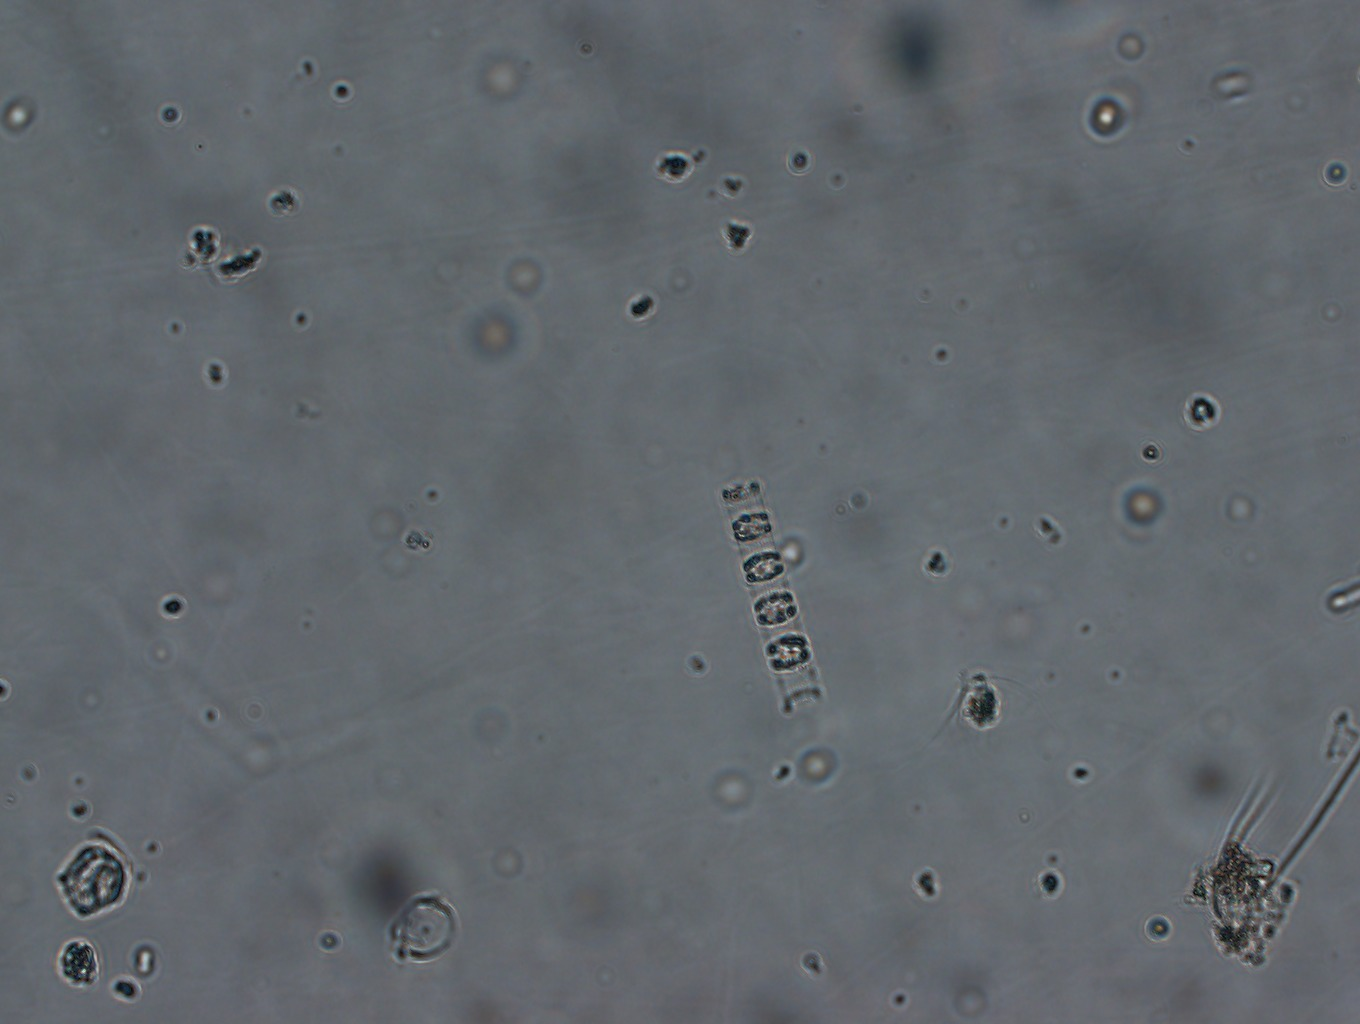skeletonema: (721, 477, 824, 716)
